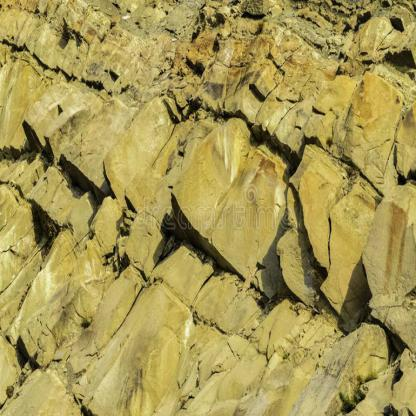Sedimentary_Limestone: (162, 113, 284, 302), (290, 128, 370, 322), (99, 87, 177, 202), (339, 70, 395, 205)
